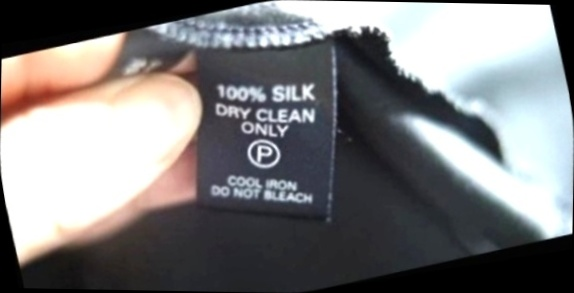dry_clean_any_solvent_except_trichloroethylene: (236, 125, 294, 181)
